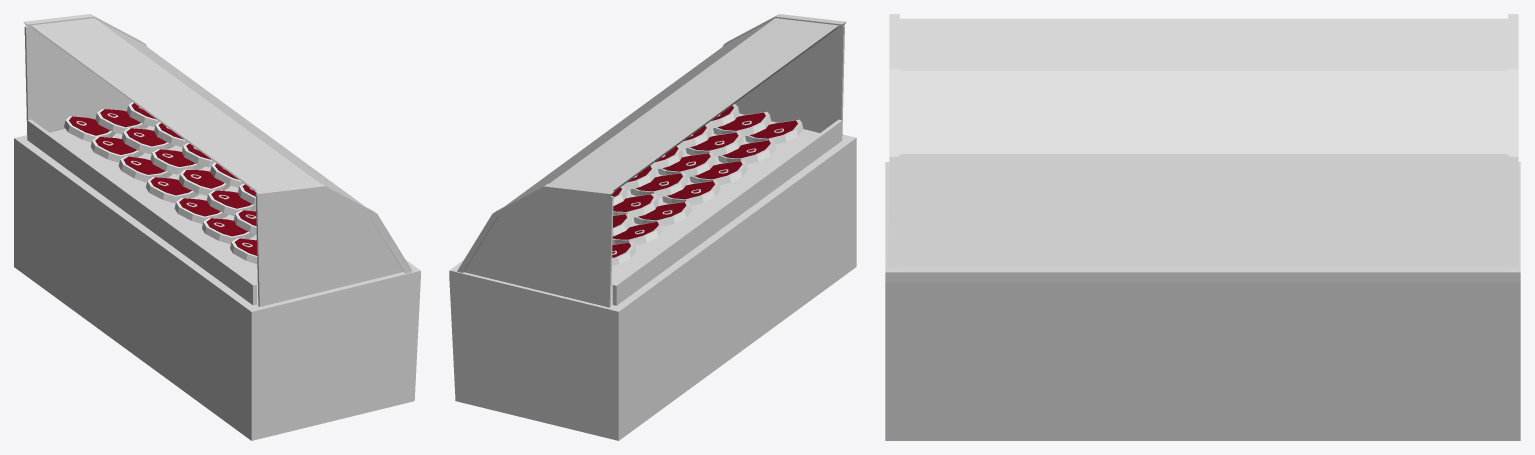
The model's file is showfreezerSteak.fbx.
3 views of the same model, side by side, from view 1: azimuth 30°, elevation 25°; view 2: azimuth 150°, elevation 25°; view 3: azimuth 270°, elevation 25° (orthographic). The views are drawn at different scales.
Visible parts, largest first — view 1: Cube; view 2: Cube; view 3: Cube.
Part boxes in pixels (x1,y1,x2,y2): Cube: (14, 14, 420, 440); Cube: (449, 14, 856, 440); Cube: (885, 14, 1520, 440).
Size of the model in its own units: 208 by 286 by 504.
